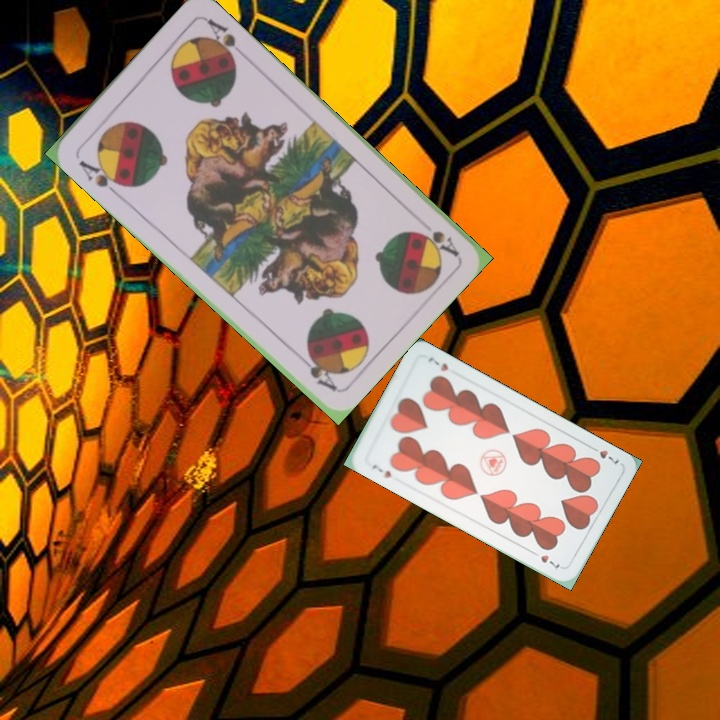H7: (585, 441, 622, 466), (368, 460, 394, 481)
SA: (74, 155, 128, 198), (414, 226, 462, 259)
